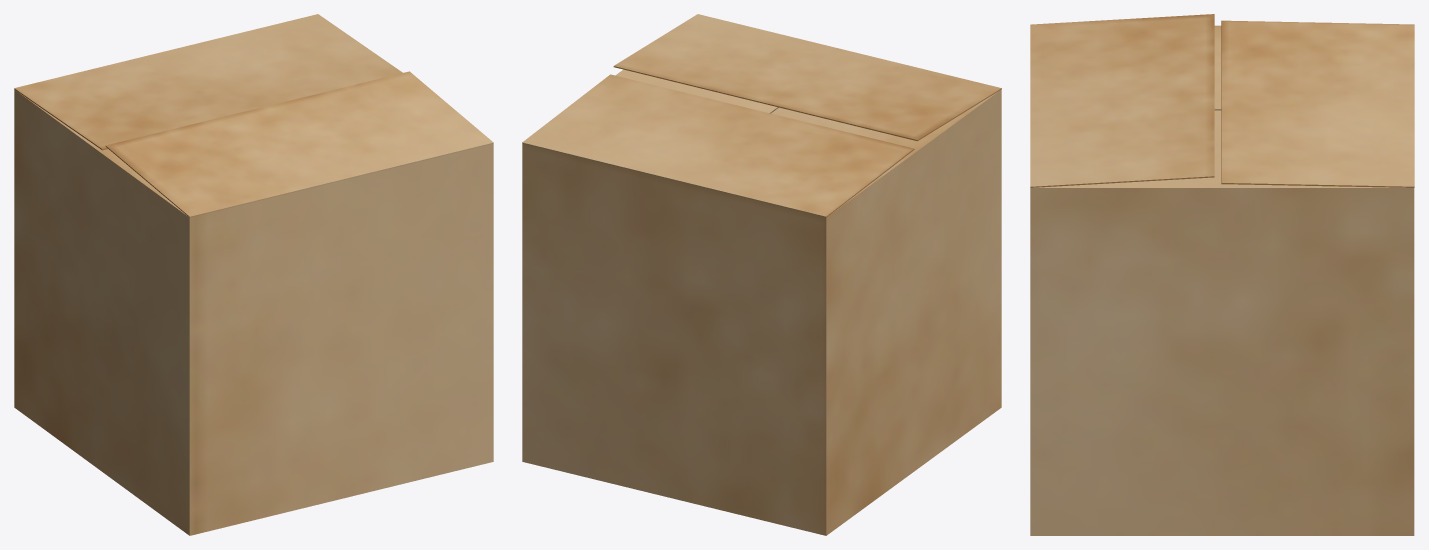
Rendered from carcoard.fbx.
The picture shows the model from 3 angles, left to right: view 1: azimuth 30°, elevation 25°; view 2: azimuth 150°, elevation 25°; view 3: azimuth 270°, elevation 25°; orthographic projection. The views are drawn at different scales.
Parts seen in each view (by area): view 1: Cube; view 2: Cube; view 3: Cube.
Boxes of the visible parts, <box> form: Cube: <box>14,14,493,535</box>; Cube: <box>522,14,1001,535</box>; Cube: <box>1030,14,1414,535</box>.
Bounding box in the file's own units: 30 × 31.01 × 30.02.
